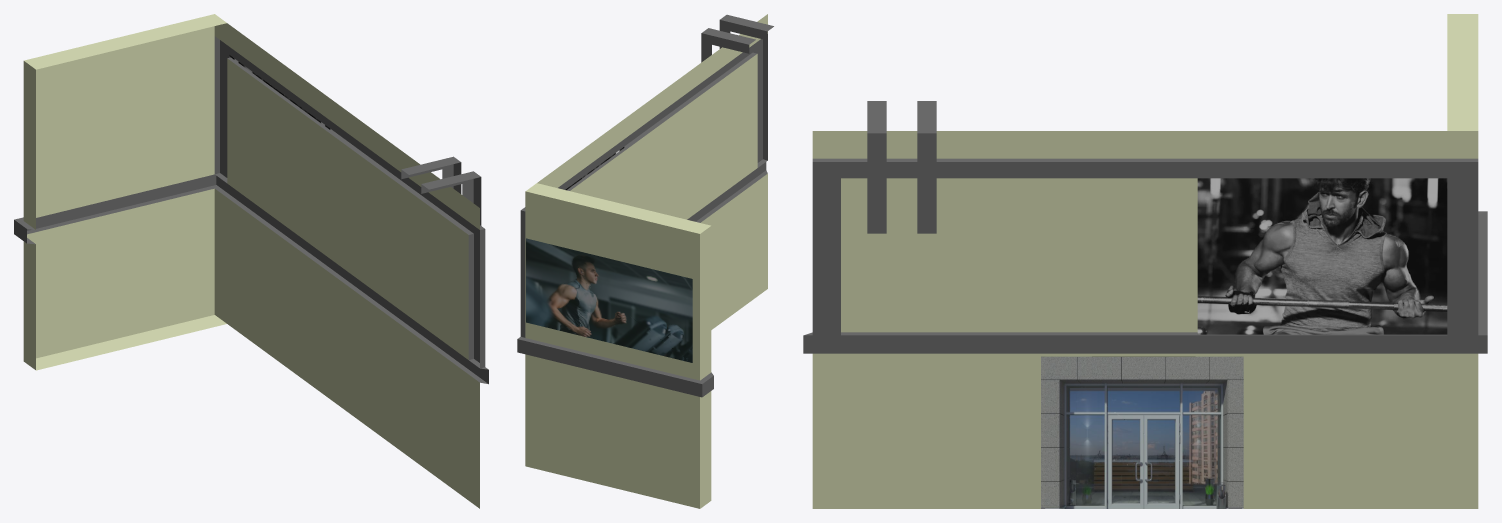
Rendered from Gym fbx.fbx.
The picture shows the model from 3 angles, left to right: view 1: azimuth 30°, elevation 25°; view 2: azimuth 150°, elevation 25°; view 3: azimuth 270°, elevation 25°; orthographic projection. The views are drawn at different scales.
Parts seen in each view (by area): view 1: pCube1, pCube2, pCube3; view 2: pCube1, pPlane4, pCube3, pCube2; view 3: pCube1, pPlane6, pPlane8, pCube2, pCube3.
Boxes of the visible parts, left/top/right/bottom form: pCube1: left=14, top=14, right=488, bottom=508; pCube2: left=421, top=171, right=481, bottom=225; pCube3: left=401, top=156, right=461, bottom=193; pCube1: left=517, top=14, right=767, bottom=508; pPlane4: left=526, top=238, right=692, bottom=362; pCube3: left=701, top=28, right=755, bottom=62; pCube2: left=719, top=14, right=773, bottom=48; pCube1: left=803, top=14, right=1487, bottom=508; pPlane6: left=1197, top=178, right=1447, bottom=334; pPlane8: left=1041, top=356, right=1243, bottom=508; pCube2: left=867, top=101, right=886, bottom=233; pCube3: left=917, top=101, right=936, bottom=233.
Size of the model in its own units: 12.01 by 16.18 by 25.73.
